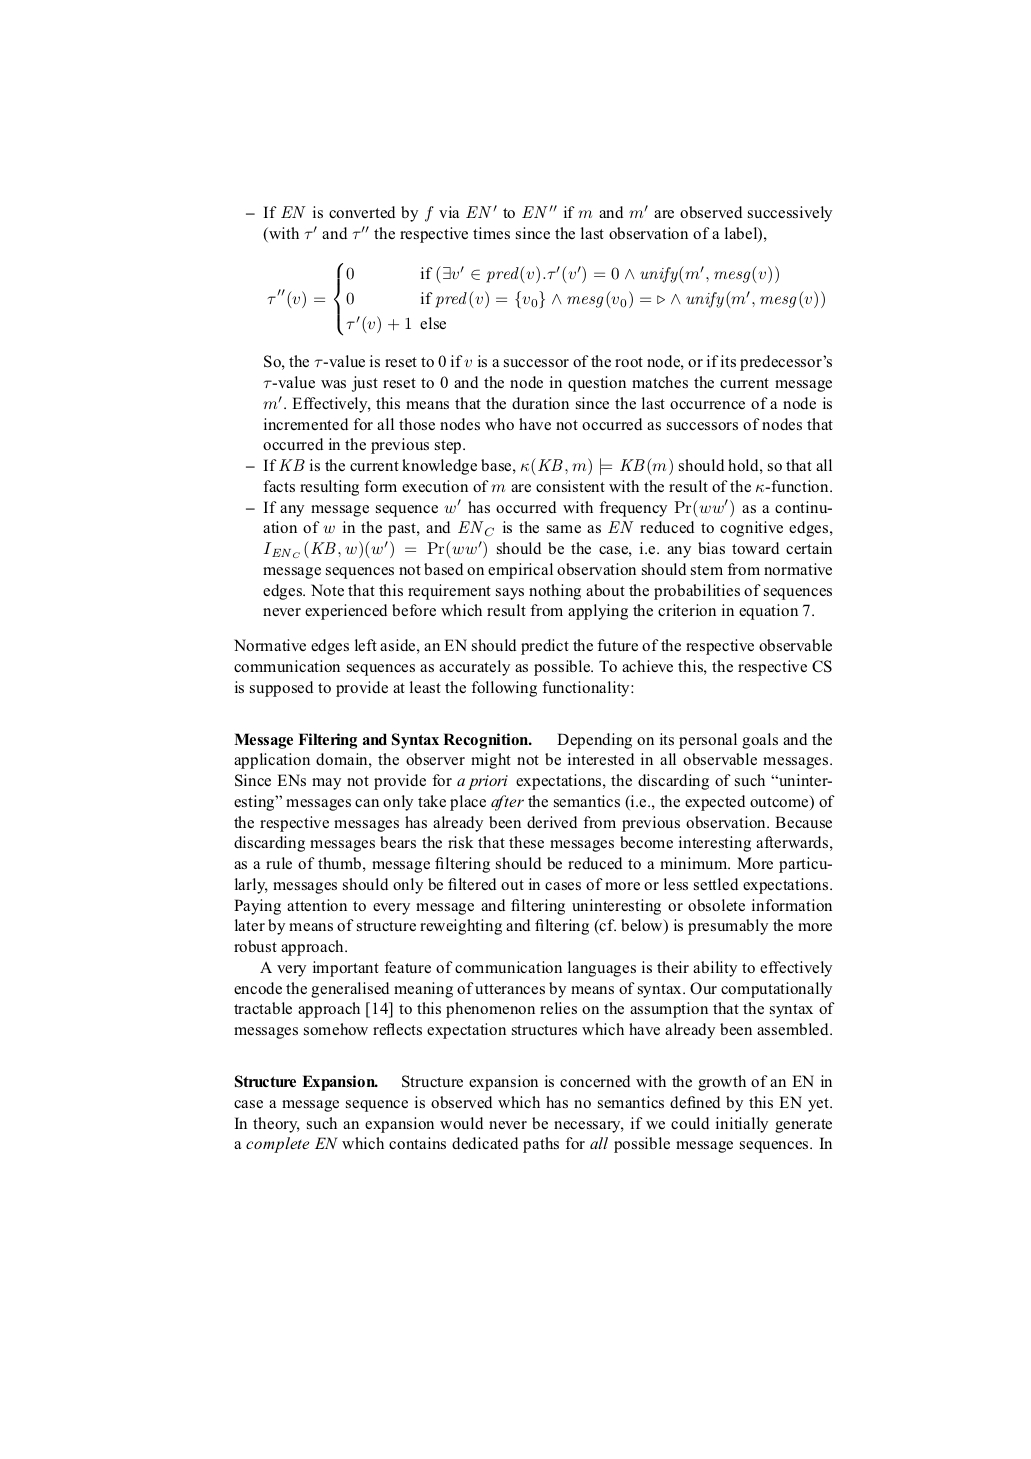formula: (267, 262, 823, 336)
